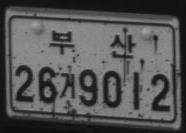0: (102, 69, 122, 108)
1: (127, 71, 145, 110)
2: (150, 72, 171, 112), (14, 64, 34, 101)
6: (37, 65, 56, 102)
9: (78, 67, 98, 106)
거: (59, 72, 75, 98)
부산_D: (49, 29, 137, 59)
